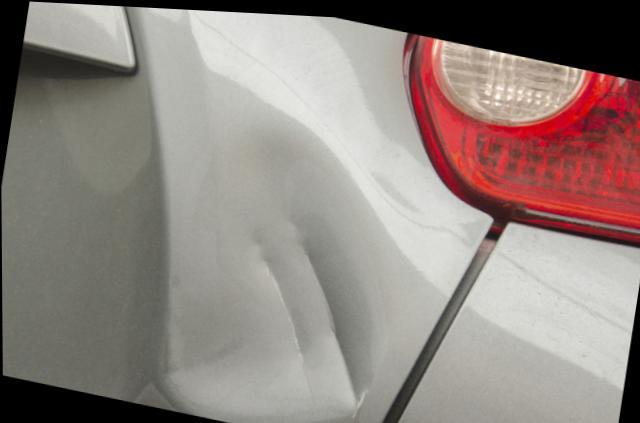dent: (160, 126, 376, 423)
